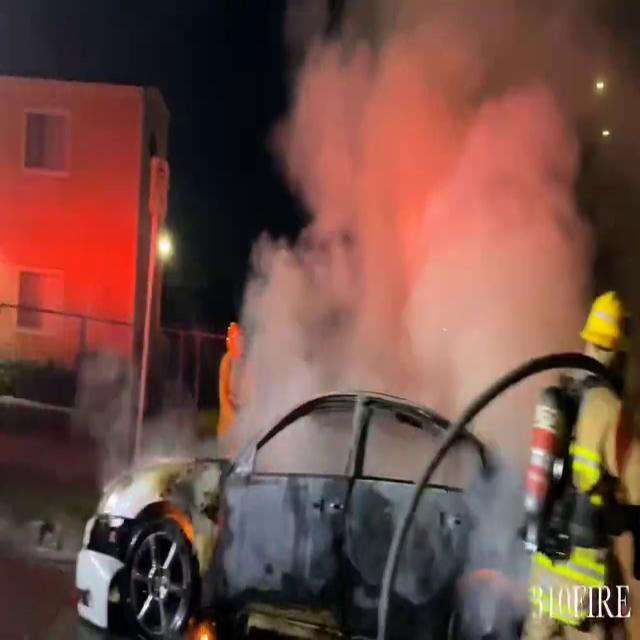Smoke: (210, 0, 630, 588)
